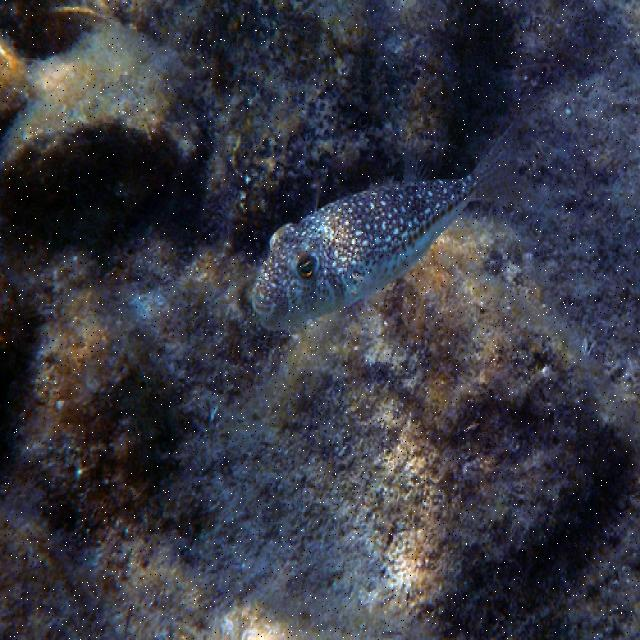Balik: (253, 132, 520, 329)
